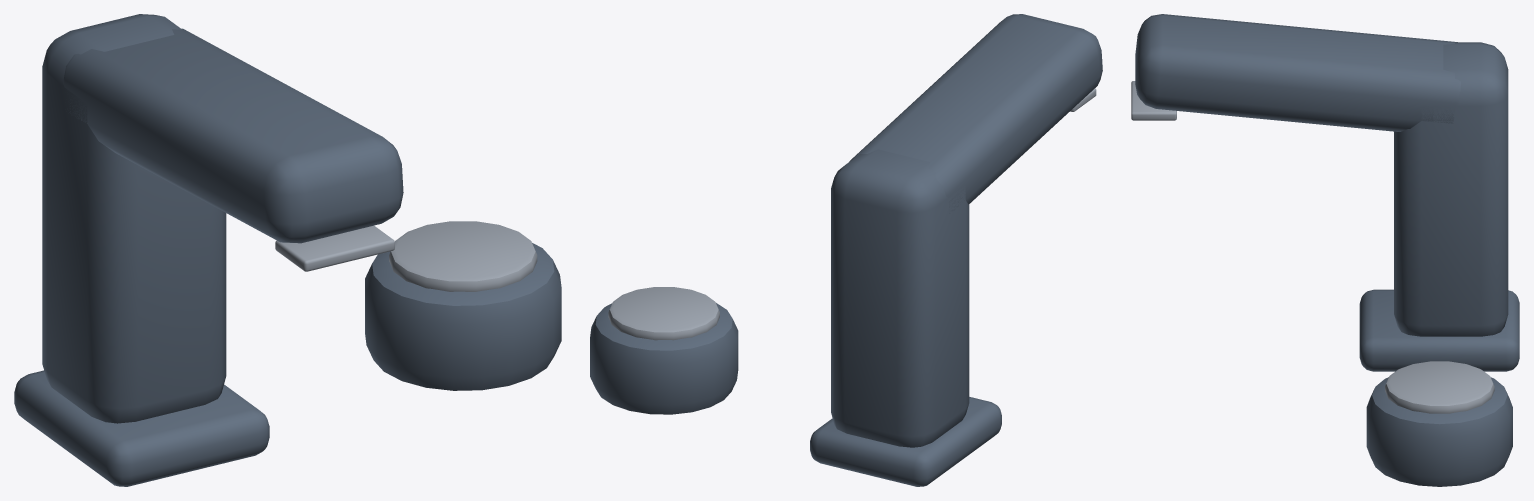
The model's file is torneira_cuba_cinza.glb.
3 renders of one model, left to right at view 1: azimuth 30°, elevation 25°; view 2: azimuth 150°, elevation 25°; view 3: azimuth 270°, elevation 25°, orthographic. The views are drawn at different scales.
Visible parts, largest first — view 1: torneira_cuba_cinza; view 2: torneira_cuba_cinza; view 3: torneira_cuba_cinza.
Boxes of the visible parts, box(x1,y1,x2,y2) form: torneira_cuba_cinza: box(14, 14, 561, 486); torneira_cuba_cinza: box(590, 14, 1102, 486); torneira_cuba_cinza: box(1131, 14, 1519, 486).
Bounding box in the file's own units: 0.182 × 0.1529 × 0.17.
1 material, 1 textured.
